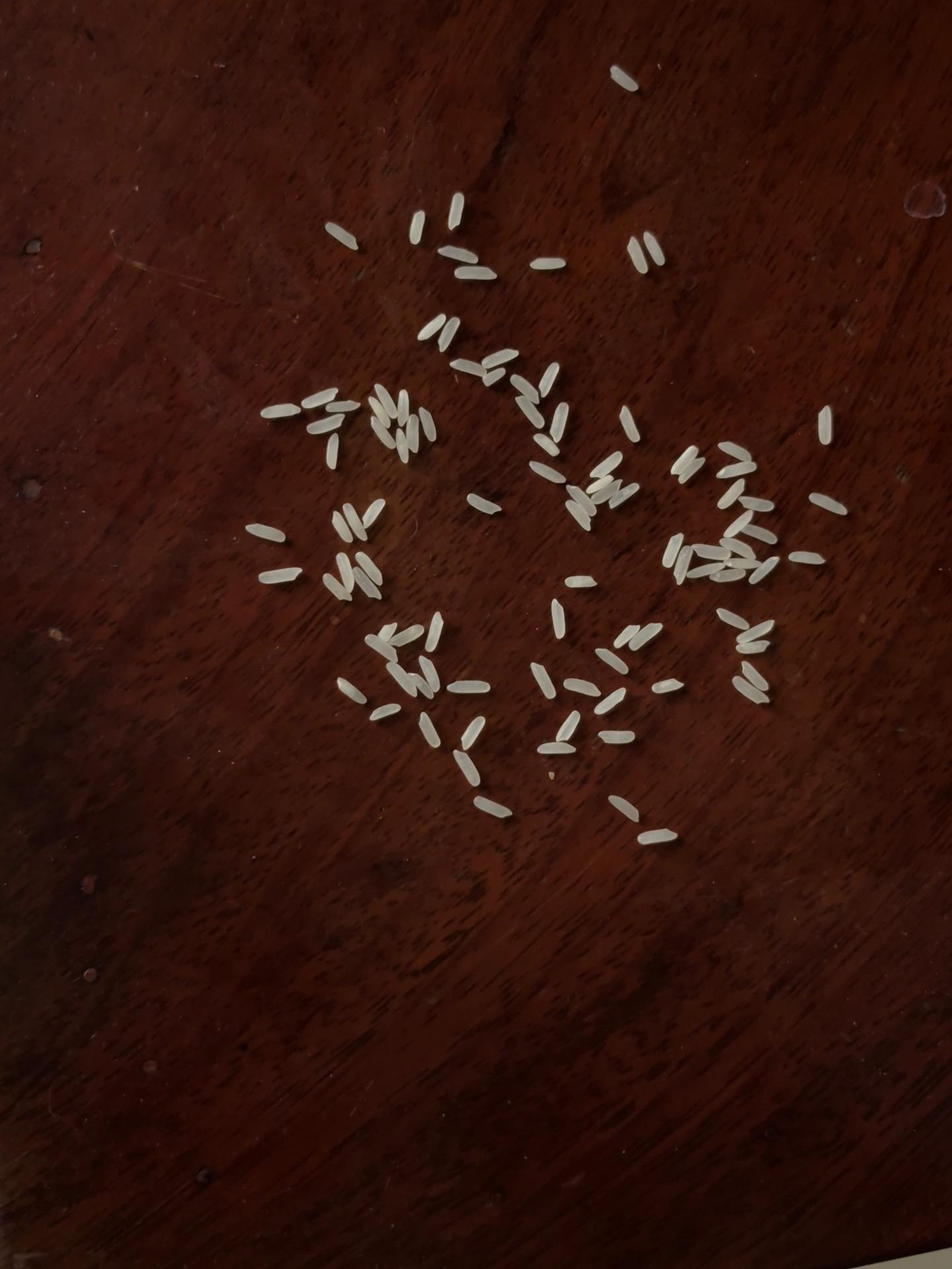Rice-th-y-nh: (385, 662, 418, 697), (452, 749, 481, 787), (732, 676, 770, 704), (566, 484, 598, 517), (529, 662, 557, 699), (670, 545, 695, 586), (515, 395, 545, 429), (628, 622, 663, 651), (342, 503, 368, 542), (355, 552, 384, 586), (594, 687, 627, 716), (325, 222, 359, 250), (365, 634, 399, 662), (459, 716, 486, 751), (736, 620, 775, 644), (510, 374, 540, 405), (748, 556, 780, 585), (608, 794, 640, 823), (353, 568, 382, 600), (417, 656, 442, 693), (590, 451, 623, 479), (595, 647, 629, 674), (369, 416, 396, 450), (719, 536, 757, 560), (716, 479, 746, 509), (809, 492, 848, 515), (590, 478, 622, 506), (547, 599, 569, 639), (374, 384, 399, 419), (322, 573, 352, 602), (670, 445, 699, 475), (723, 510, 754, 538), (336, 677, 367, 705), (741, 661, 769, 692), (417, 712, 441, 748), (625, 238, 649, 274), (473, 796, 512, 818), (661, 533, 685, 568), (565, 500, 592, 531), (609, 482, 640, 509), (555, 711, 581, 743), (388, 624, 424, 647), (245, 523, 286, 543), (678, 456, 706, 485), (610, 65, 639, 93), (437, 317, 460, 352), (438, 244, 478, 264), (425, 612, 445, 652), (307, 414, 345, 435), (335, 553, 356, 591), (619, 406, 641, 442), (529, 461, 565, 483), (417, 314, 446, 341), (643, 231, 666, 265), (550, 403, 570, 442), (743, 523, 778, 545), (538, 362, 560, 397), (717, 460, 757, 479), (716, 607, 749, 630), (301, 388, 338, 408), (564, 677, 601, 697), (454, 264, 497, 281), (692, 543, 732, 561), (718, 441, 752, 462), (259, 567, 301, 584), (331, 512, 353, 544), (482, 349, 519, 368), (409, 673, 435, 700), (418, 407, 438, 442), (368, 397, 391, 427), (451, 358, 487, 377), (637, 828, 677, 845), (688, 561, 725, 579), (739, 495, 774, 514), (537, 739, 576, 756), (467, 494, 500, 514), (613, 624, 640, 648), (447, 679, 490, 694), (362, 499, 385, 527), (448, 192, 465, 229), (533, 433, 560, 456), (817, 406, 833, 444), (405, 414, 421, 452), (260, 403, 300, 418), (409, 210, 426, 245), (369, 703, 401, 721), (710, 567, 746, 583), (395, 390, 411, 426), (788, 550, 825, 565), (651, 678, 684, 694), (598, 730, 635, 744), (395, 429, 410, 463), (326, 399, 360, 414), (586, 476, 614, 494), (726, 557, 761, 571), (530, 257, 566, 270), (326, 434, 339, 469), (736, 641, 770, 654), (482, 368, 506, 386), (565, 575, 597, 588), (377, 623, 398, 642)
